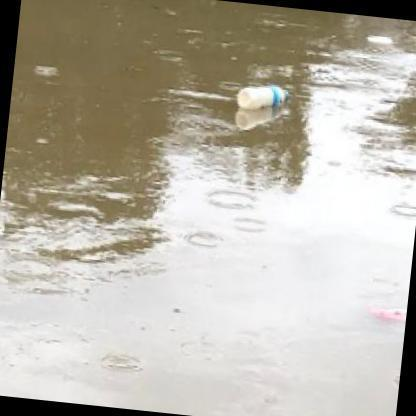plastic bottle: (238, 86, 290, 107)
